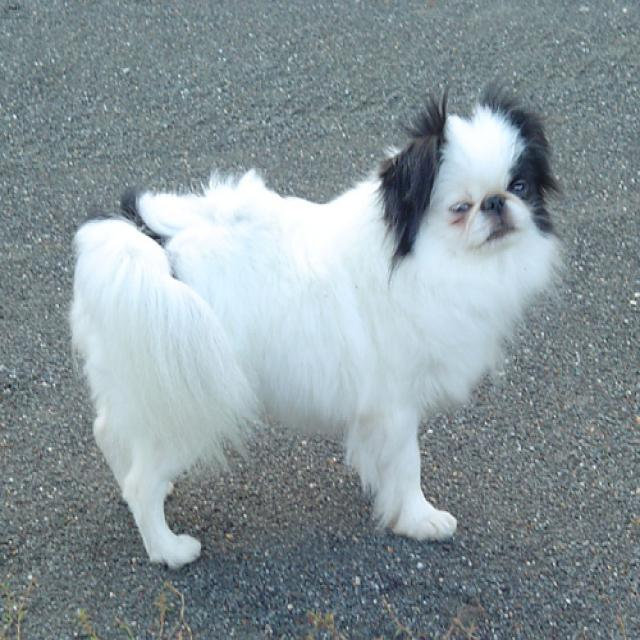dog-japanese_chin: (61, 64, 584, 576)
